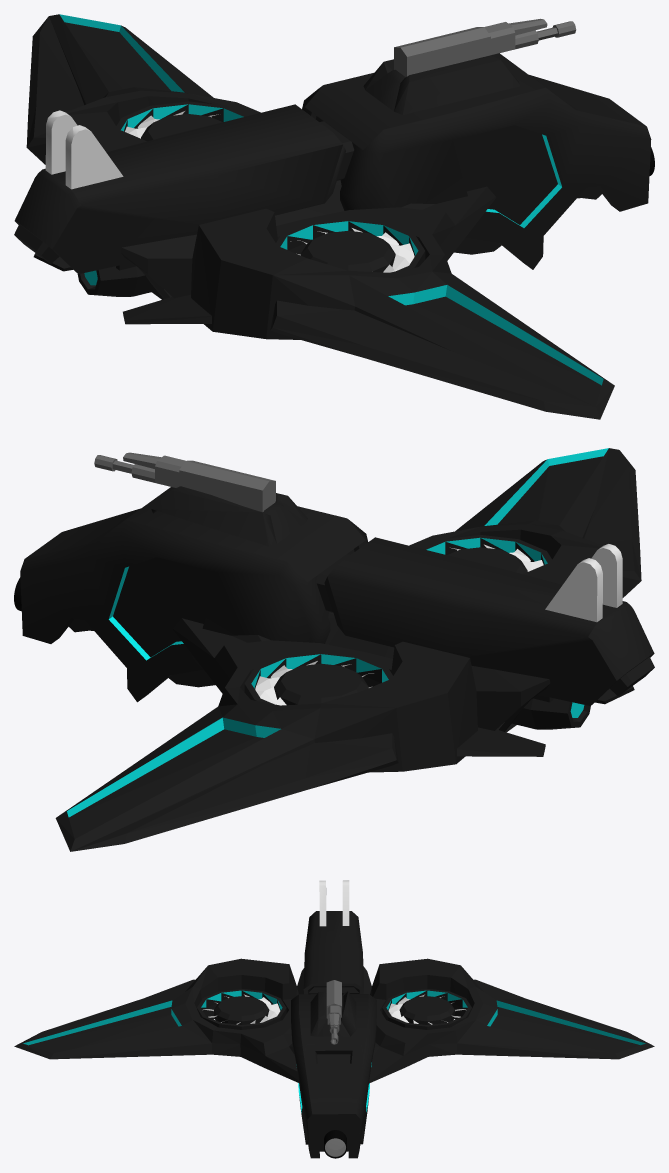
Rendered from arena drone.fbx.
3 views of the same model, one above another, from view 1: azimuth 30°, elevation 25°; view 2: azimuth 150°, elevation 25°; view 3: azimuth 270°, elevation 25° (orthographic). The views are drawn at different scales.
Visible parts, largest first — view 1: Mesh_0814.001, Drone, Drone.001, Mesh_0822.001, propller 1; view 2: Drone, Mesh_0814.001, Drone.001, Mesh_0822.001, Propllier 2; view 3: Drone, Mesh_0814.001, Drone.001, Mesh_0822.001, Circle.001.
Boxes of the visible parts, box(x1,y1,x2,y2) form: Mesh_0814.001: box(14, 53, 651, 299); Drone: box(26, 14, 614, 419); Drone.001: box(394, 18, 576, 76); Mesh_0822.001: box(45, 110, 123, 189); propller 1: box(290, 228, 414, 272); Drone: box(55, 448, 641, 851); Mesh_0814.001: box(20, 486, 654, 732); Drone.001: box(94, 452, 275, 511); Mesh_0822.001: box(545, 544, 622, 622); Propllier 2: box(255, 661, 373, 705); Drone: box(14, 958, 654, 1083); Mesh_0814.001: box(291, 911, 376, 1158); Drone.001: box(326, 980, 341, 1044); Mesh_0822.001: box(319, 880, 349, 926); Circle.001: box(324, 1130, 346, 1158).
Bounding box in the file's own units: 407 × 150 × 626.
